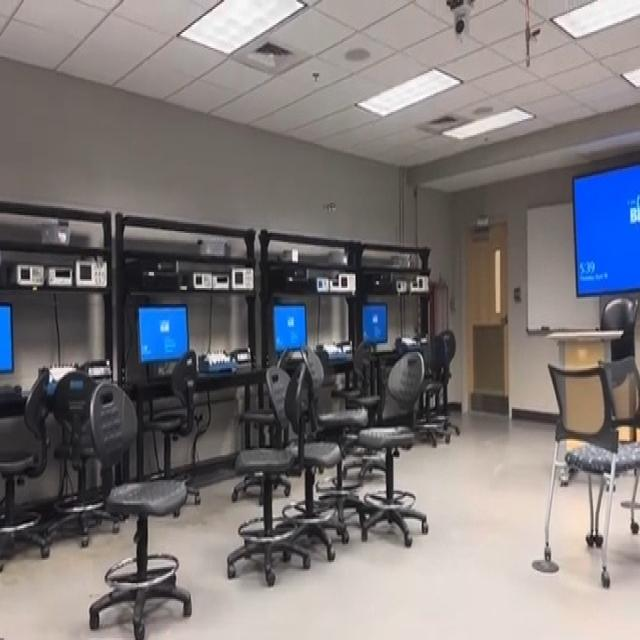drone: (315, 180, 345, 224)
